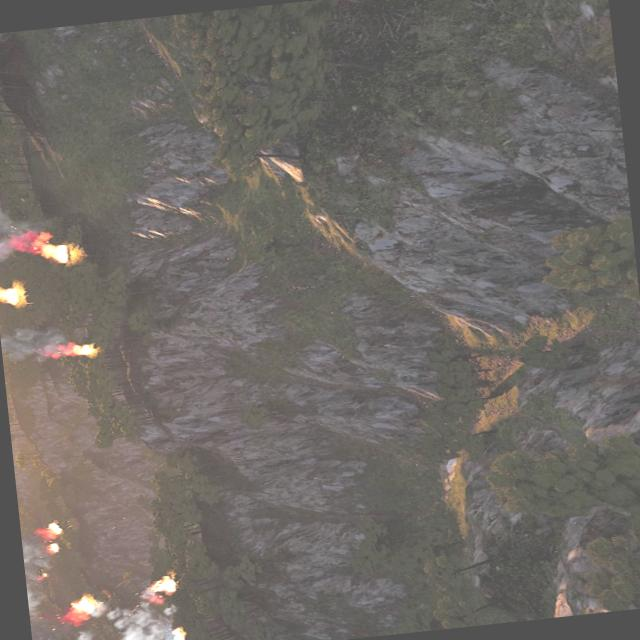fire: (10, 225, 74, 268), (52, 336, 100, 359), (0, 281, 22, 308), (70, 595, 96, 617), (151, 573, 178, 594), (40, 520, 64, 538), (167, 623, 188, 640), (36, 569, 51, 578), (46, 540, 59, 550)
smoke: (31, 589, 176, 640), (0, 319, 88, 362), (0, 206, 38, 259)
